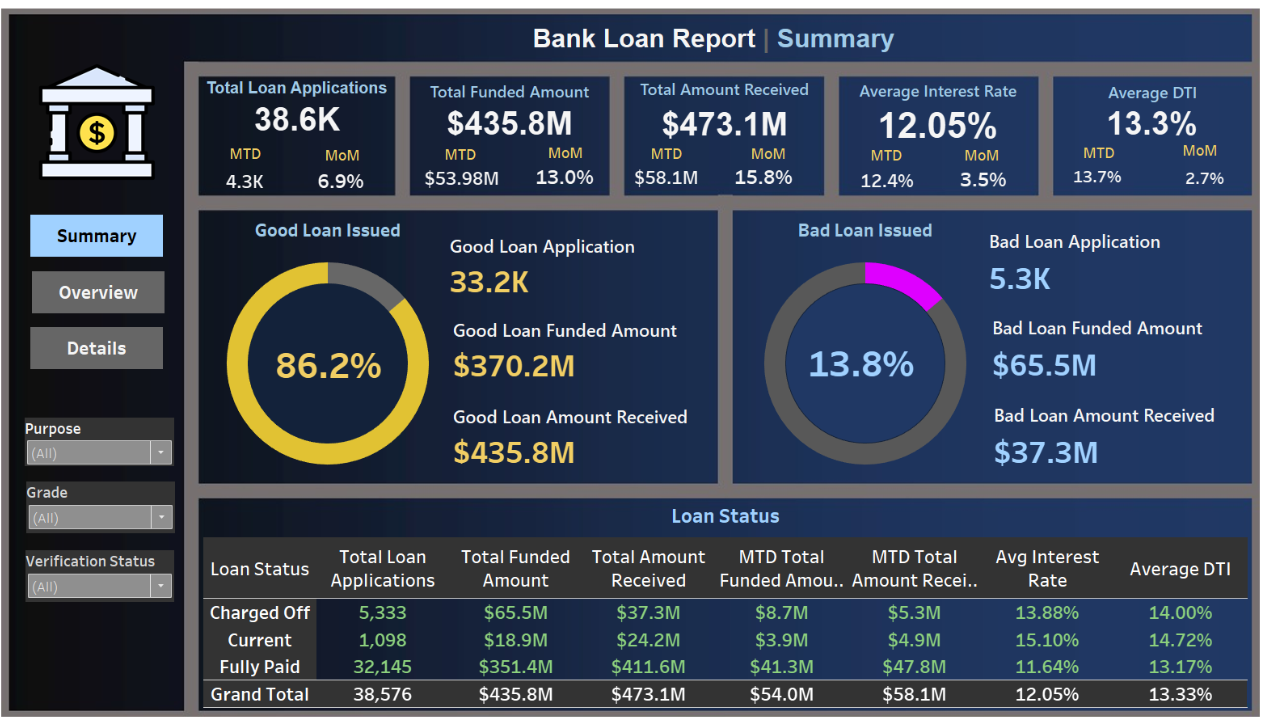

The dashboard page shown, as its layout file describes it:
{"tool":"tableau","page":{"name":"Summary","canvas":[1600,900],"ordinal":2},"visuals":[{"type":"image","param":"Image/Tableau Background 1.jpg","box":[8,8,1584,884]},{"type":"text","box":[642,30,521,39]},{"type":"image","param":"Image/bank_4770298.png","box":[54,74,170,156]},{"type":"worksheet","title":"Total Amount Received","mark":"Automatic","box":[790,93,252,82]},{"type":"worksheet","title":"Total Loan Applications","mark":"Automatic","box":[266,95,241,70]},{"type":"worksheet","title":"Average Interest Rate","mark":"Automatic","box":[1055,95,250,81]},{"type":"worksheet","title":"Total Funded Amount","mark":"Automatic","box":[527,96,246,73]},{"type":"worksheet","title":"Average DTI","mark":"Automatic","box":[1325,97,241,72]},{"type":"text","box":[1454,172,100,30]},{"type":"text","box":[669,175,100,30]},{"type":"text","box":[1329,175,100,30]},{"type":"text","box":[273,176,100,30]},{"type":"text","box":[794,176,100,30]},{"type":"text","box":[920,176,100,30]},{"type":"text","box":[539,177,100,30]},{"type":"text","box":[393,178,100,30]},{"type":"text","box":[1066,178,100,30]},{"type":"text","box":[1184,178,100,30]},{"type":"worksheet","title":"MoM Total Funded Amount","mark":"Automatic","box":[675,198,86,42]},{"type":"worksheet","title":"MTD Total Amount Received","mark":"Automatic","box":[799,200,90,39]},{"type":"worksheet","title":"MoM Total Amount Received","mark":"Automatic","box":[921,200,85,37]},{"type":"worksheet","title":"MTD Average DTI","mark":"Automatic","box":[1327,200,100,37]},{"type":"worksheet","title":"MoM Average DTI","mark":"Automatic","box":[1465,200,90,41]},{"type":"worksheet","title":"MTD Total Funded Amount","mark":"Automatic","box":[540,201,101,39]},{"type":"worksheet","title":"MoM Average Interest Rate","mark":"Automatic","box":[1194,205,83,33]},{"type":"worksheet","title":"MTD Average Interest Rate","mark":"Automatic","box":[1077,207,80,33]},{"type":"worksheet","title":"MTD Loan Applications","mark":"Automatic","box":[278,208,87,33]},{"type":"worksheet","title":"MoM Loan Applications","mark":"Automatic","box":[399,208,84,31]},{"type":"worksheet","title":"Good Loan Issued","mark":"Pie","rows":["Calculation_411797920155885569","Calculation_411797920155885569"],"box":[275,266,300,325]},{"type":"worksheet","title":"Bad Loan Issued ","mark":"Pie","rows":["Calculation_411797920155885569","Calculation_411797920155885569"],"box":[940,266,300,325]},{"type":"dashboard-object","box":[57,267,164,52]},{"type":"worksheet","title":"Bad Loan Application ","mark":"Automatic","box":[1235,276,312,91]},{"type":"worksheet","title":"Good Loan Application","mark":"Automatic","box":[568,282,322,86]},{"type":"dashboard-object","box":[59,337,164,52]},{"type":"worksheet","title":"Bad Loan Funded Amount","mark":"Automatic","box":[1239,383,312,91]},{"type":"worksheet","title":"Good Loan Funded Amount","mark":"Automatic","box":[572,386,322,86]},{"type":"dashboard-object","box":[57,406,164,52]},{"type":"worksheet","title":"Bad Loan Application %","mark":"Automatic","box":[1015,418,158,61]},{"type":"worksheet","title":"Good Loan Application %","mark":"Automatic","box":[345,420,162,62]},{"type":"worksheet","title":"Bad Loan Amount Received","mark":"Automatic","box":[1241,491,312,91]},{"type":"worksheet","title":"Good Loan Amount Received","mark":"Automatic","box":[572,493,322,86]},{"type":"filter","title":"Good Loan Issued","param":"[federated.1mfxow81dj9rb515gv0x40jgt81q].[none:purpose:nk]","box":[50,518,185,60]},{"type":"filter","title":"Good Loan Issued","param":"[federated.1mfxow81dj9rb515gv0x40jgt81q].[none:grade:nk]","box":[52,597,184,64]},{"type":"worksheet","title":"Loan Status","mark":"Automatic","rows":["loan_status"],"box":[271,618,1292,259]},{"type":"filter","title":"Good Loan Issued","param":"[federated.1mfxow81dj9rb515gv0x40jgt81q].[none:verification_status:nk]","box":[51,682,184,64]}]}

Visuals, with their boxes in screenshot pixels (x1, y1, x2, y2), scaled from the page's 1600x900 canvas onto the 1261x718 screenshot:
image: {"left": 6, "top": 6, "right": 1255, "bottom": 712}
text: {"left": 506, "top": 24, "right": 917, "bottom": 55}
image: {"left": 43, "top": 59, "right": 177, "bottom": 183}
"Total Amount Received" worksheet: {"left": 623, "top": 74, "right": 821, "bottom": 140}
"Total Loan Applications" worksheet: {"left": 210, "top": 76, "right": 400, "bottom": 132}
"Average Interest Rate" worksheet: {"left": 831, "top": 76, "right": 1029, "bottom": 140}
"Total Funded Amount" worksheet: {"left": 415, "top": 77, "right": 609, "bottom": 135}
"Average DTI" worksheet: {"left": 1044, "top": 77, "right": 1234, "bottom": 135}
text: {"left": 1146, "top": 137, "right": 1225, "bottom": 161}
text: {"left": 527, "top": 140, "right": 606, "bottom": 164}
text: {"left": 1047, "top": 140, "right": 1126, "bottom": 164}
text: {"left": 215, "top": 140, "right": 294, "bottom": 164}
text: {"left": 626, "top": 140, "right": 705, "bottom": 164}
text: {"left": 725, "top": 140, "right": 804, "bottom": 164}
text: {"left": 425, "top": 141, "right": 504, "bottom": 165}
text: {"left": 310, "top": 142, "right": 389, "bottom": 166}
text: {"left": 840, "top": 142, "right": 919, "bottom": 166}
text: {"left": 933, "top": 142, "right": 1012, "bottom": 166}
"MoM Total Funded Amount" worksheet: {"left": 532, "top": 158, "right": 600, "bottom": 191}
"MTD Total Amount Received" worksheet: {"left": 630, "top": 160, "right": 701, "bottom": 191}
"MoM Total Amount Received" worksheet: {"left": 726, "top": 160, "right": 793, "bottom": 189}
"MTD Average DTI" worksheet: {"left": 1046, "top": 160, "right": 1125, "bottom": 189}
"MoM Average DTI" worksheet: {"left": 1155, "top": 160, "right": 1226, "bottom": 192}
"MTD Total Funded Amount" worksheet: {"left": 426, "top": 160, "right": 505, "bottom": 191}
"MoM Average Interest Rate" worksheet: {"left": 941, "top": 164, "right": 1006, "bottom": 190}
"MTD Average Interest Rate" worksheet: {"left": 849, "top": 165, "right": 912, "bottom": 191}
"MTD Loan Applications" worksheet: {"left": 219, "top": 166, "right": 288, "bottom": 192}
"MoM Loan Applications" worksheet: {"left": 314, "top": 166, "right": 381, "bottom": 191}
"Good Loan Issued" worksheet (Pie marks): {"left": 217, "top": 212, "right": 453, "bottom": 471}
"Bad Loan Issued " worksheet (Pie marks): {"left": 741, "top": 212, "right": 977, "bottom": 471}
dashboard-object: {"left": 45, "top": 213, "right": 174, "bottom": 254}
"Bad Loan Application " worksheet: {"left": 973, "top": 220, "right": 1219, "bottom": 293}
"Good Loan Application" worksheet: {"left": 448, "top": 225, "right": 701, "bottom": 294}
dashboard-object: {"left": 46, "top": 269, "right": 176, "bottom": 310}
"Bad Loan Funded Amount" worksheet: {"left": 976, "top": 306, "right": 1222, "bottom": 378}
"Good Loan Funded Amount" worksheet: {"left": 451, "top": 308, "right": 705, "bottom": 377}
dashboard-object: {"left": 45, "top": 324, "right": 174, "bottom": 365}
"Bad Loan Application %" worksheet: {"left": 800, "top": 333, "right": 924, "bottom": 382}
"Good Loan Application %" worksheet: {"left": 272, "top": 335, "right": 400, "bottom": 385}
"Bad Loan Amount Received" worksheet: {"left": 978, "top": 392, "right": 1224, "bottom": 464}
"Good Loan Amount Received" worksheet: {"left": 451, "top": 393, "right": 705, "bottom": 462}
"Good Loan Issued" filter: {"left": 39, "top": 413, "right": 185, "bottom": 461}
"Good Loan Issued" filter: {"left": 41, "top": 476, "right": 186, "bottom": 527}
"Loan Status" worksheet: {"left": 214, "top": 493, "right": 1232, "bottom": 700}
"Good Loan Issued" filter: {"left": 40, "top": 544, "right": 185, "bottom": 595}
